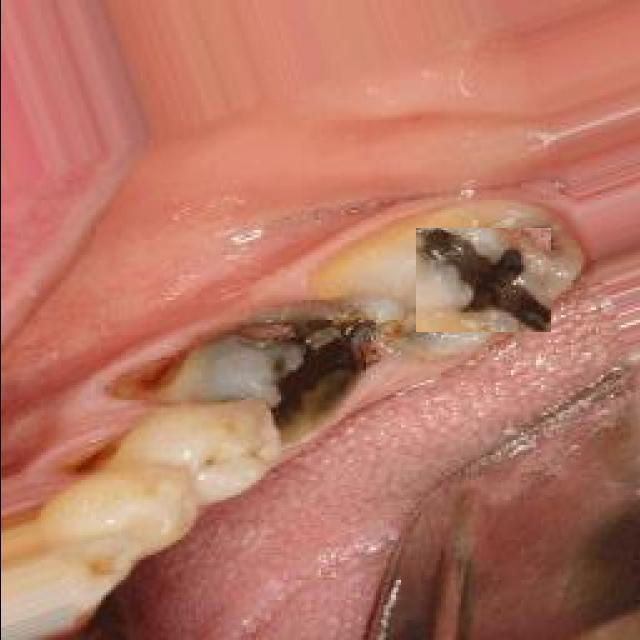decay: (112, 323, 390, 433), (415, 228, 550, 332), (62, 430, 120, 485)
